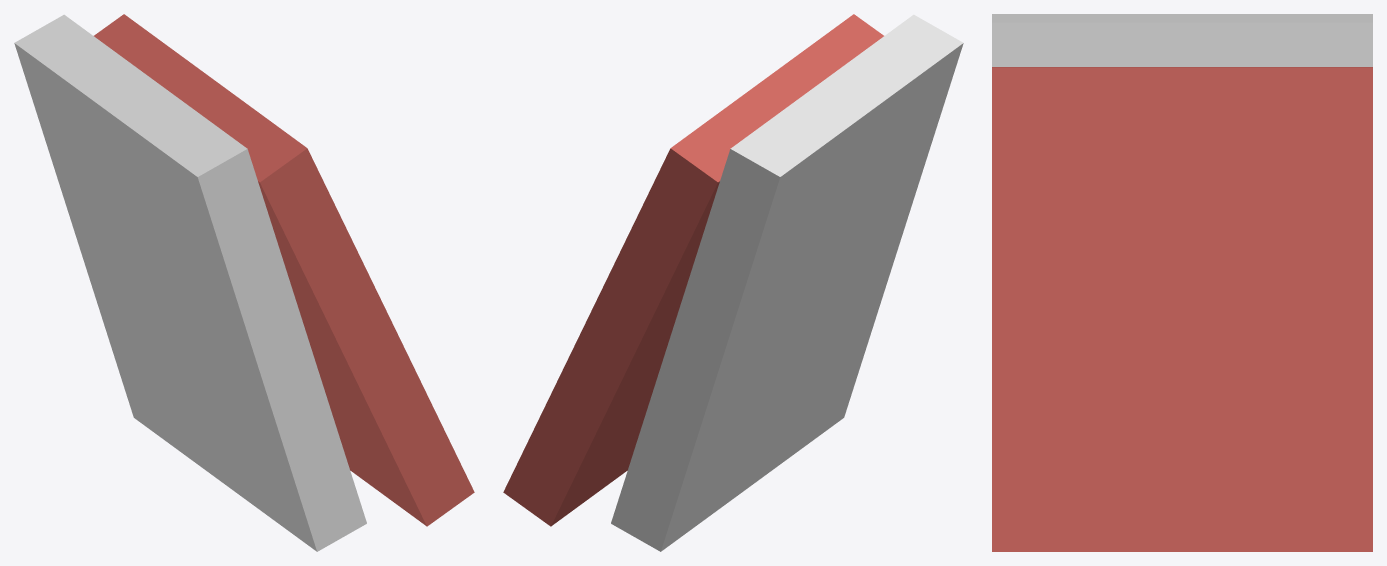
File: kirjat3.fbx
3 renders of one model, left to right at view 1: azimuth 30°, elevation 25°; view 2: azimuth 150°, elevation 25°; view 3: azimuth 270°, elevation 25°, orthographic. The views are drawn at different scales.
Parts seen in each view (by area): view 1: Cube.002; view 2: Cube.002; view 3: Cube.002.
Boxes of the visible parts, <box> form: Cube.002: <box>14,14,474,551</box>; Cube.002: <box>503,14,963,551</box>; Cube.002: <box>992,14,1372,551</box>.
Bounding box in the file's own units: 0.4894 × 0.7118 × 0.5612.
